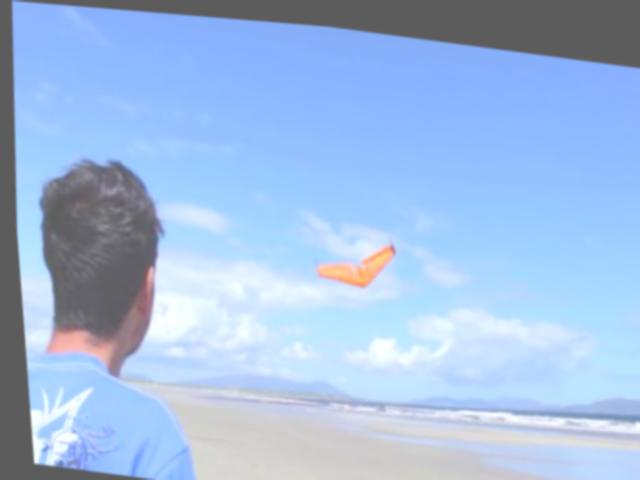flying wing: (308, 222, 398, 292)
